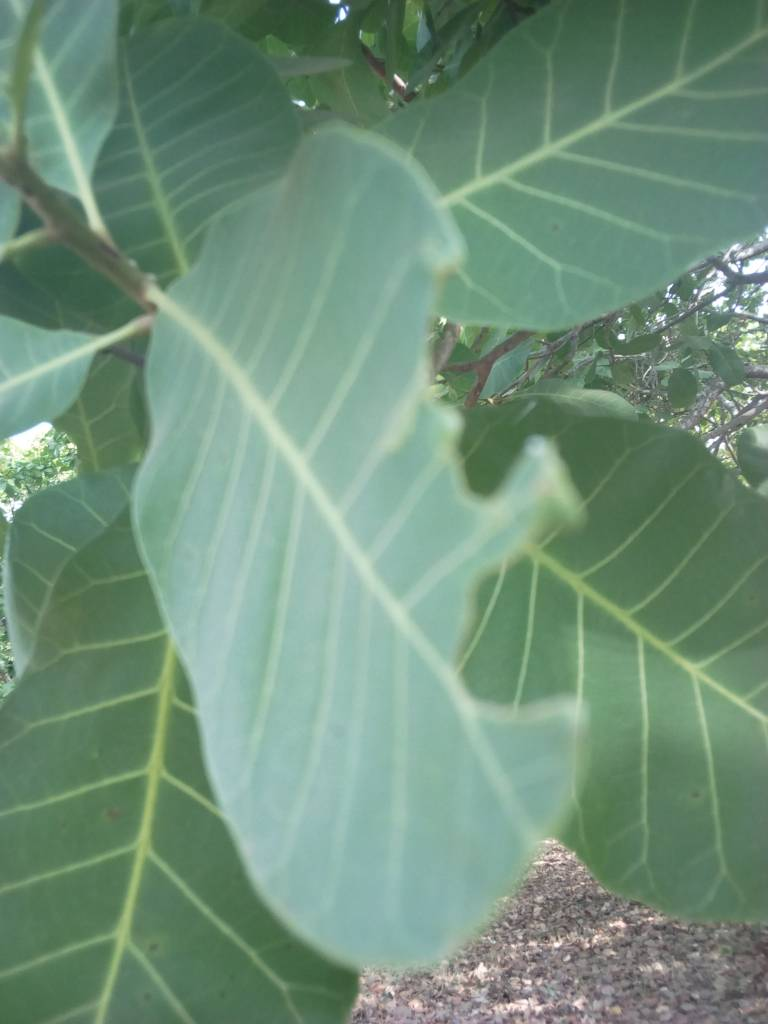Anoplonemis curvipes: (355, 174, 594, 835)
